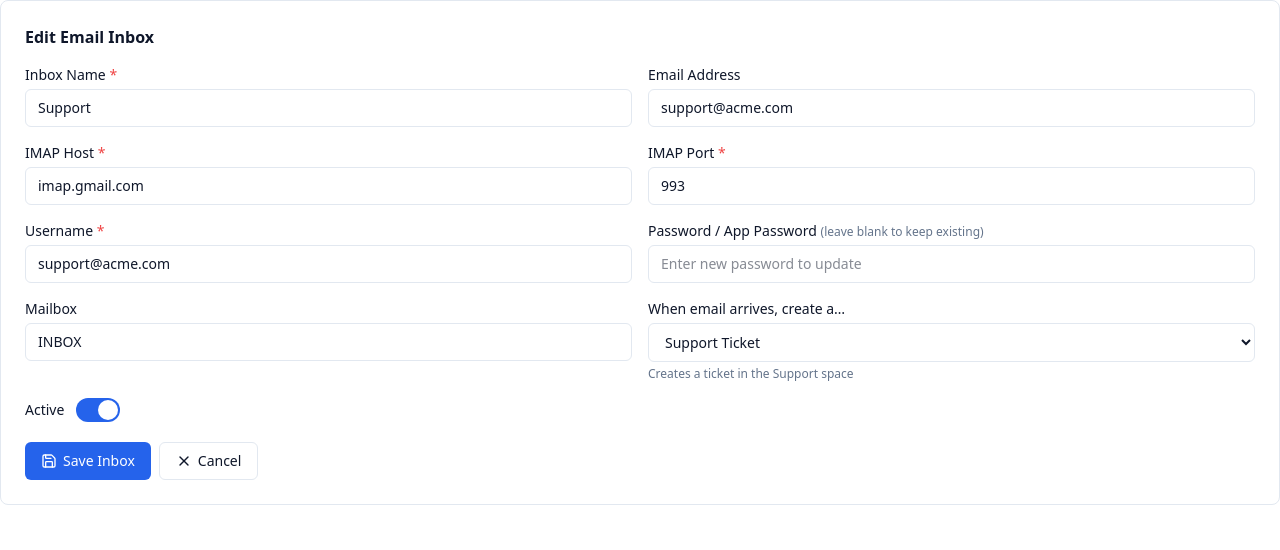
Test: EmailInboxForm › shows error message on save failure
This screenshot has width=1280, height=550.
Click the button with test id "inbox-save-btn" at (88, 461), box x1=25 y1=442 x2=151 y2=480
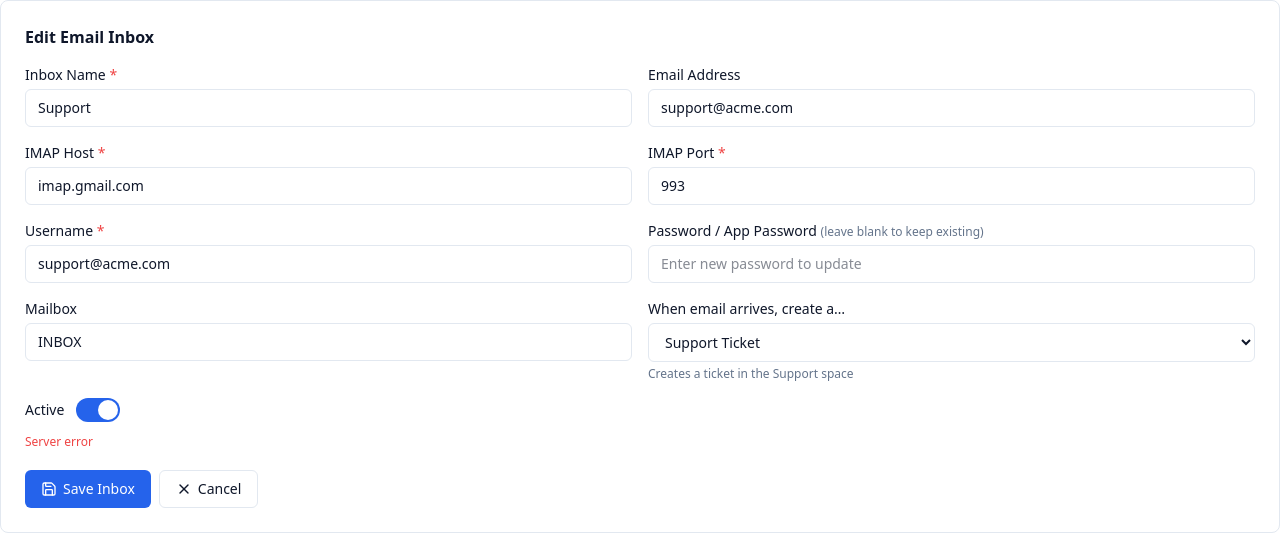
Expected: the text with test id "inbox-form-error" reads "Server error", x1=25 y1=433 x2=93 y2=450
